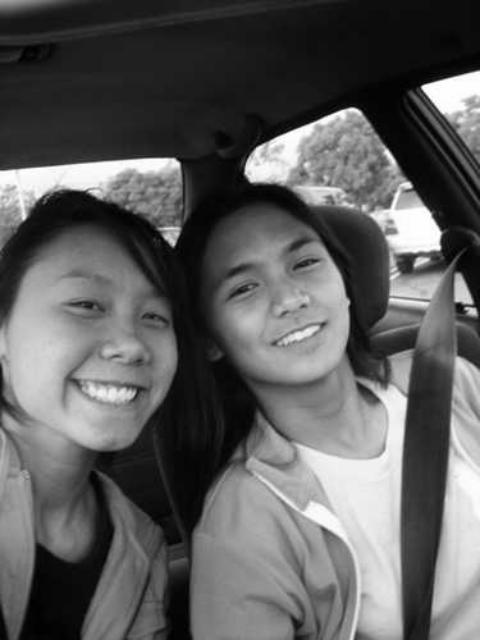SafeDriving: (52, 284, 114, 322), (220, 268, 270, 308), (129, 296, 179, 334), (285, 244, 332, 279)
Seatbelt: (392, 228, 480, 640)
